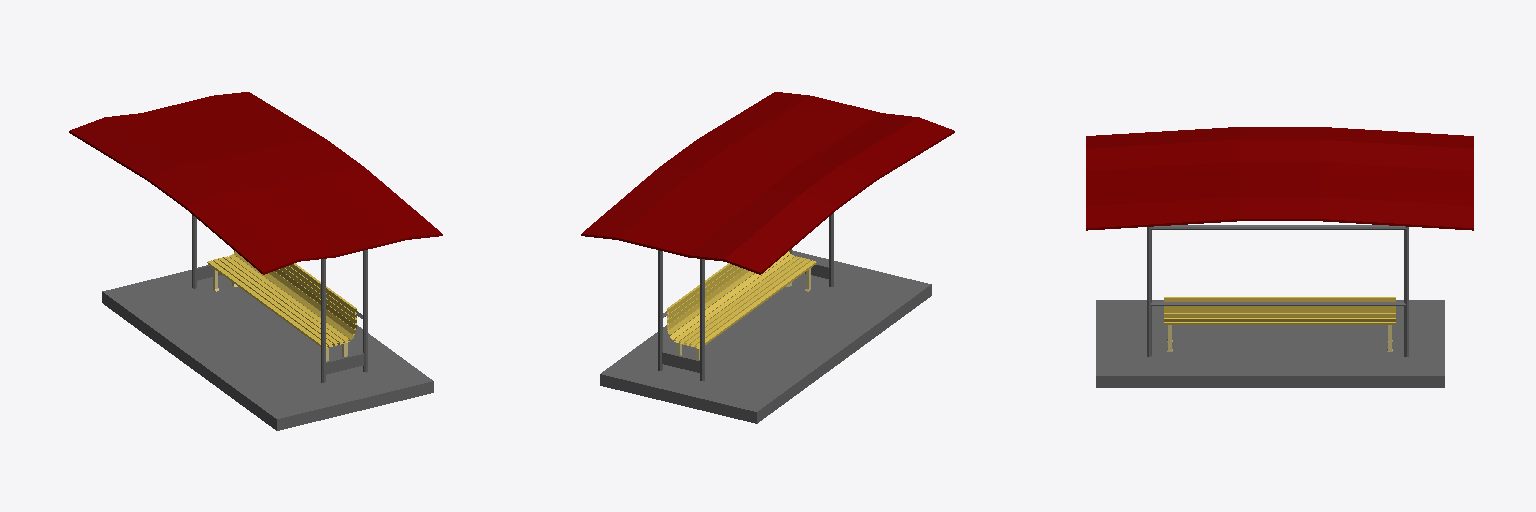
The model's file is BusStop_001.obj.
3 renders of one model, left to right at view 1: azimuth 30°, elevation 25°; view 2: azimuth 150°, elevation 25°; view 3: azimuth 270°, elevation 25°, orthographic.
Visible parts, largest first — view 1: Box004, Box001, Box024, Cylinder006, Box006; view 2: Box004, Box001, Box024, Cylinder006, Box006; view 3: Box004, Box001, Box024, Cylinder006, Cylinder005.
Boxes of the visible parts, x1=… form: Box004: x1=69, y1=92, x2=442, y2=274; Box001: x1=102, y1=259, x2=433, y2=430; Box024: x1=207, y1=251, x2=356, y2=348; Cylinder006: x1=192, y1=215, x2=367, y2=382; Box006: x1=197, y1=265, x2=363, y2=374; Box004: x1=581, y1=92, x2=954, y2=274; Box001: x1=600, y1=250, x2=931, y2=423; Box024: x1=667, y1=251, x2=816, y2=348; Cylinder006: x1=658, y1=213, x2=833, y2=380; Box006: x1=662, y1=263, x2=828, y2=372; Box004: x1=1086, y1=127, x2=1473, y2=230; Box001: x1=1096, y1=300, x2=1444, y2=387; Box024: x1=1164, y1=297, x2=1395, y2=324; Cylinder006: x1=1147, y1=225, x2=1408, y2=356; Cylinder005: x1=1151, y1=302, x2=1405, y2=305.
Size of the model in its own units: 80 by 76.92 by 150.